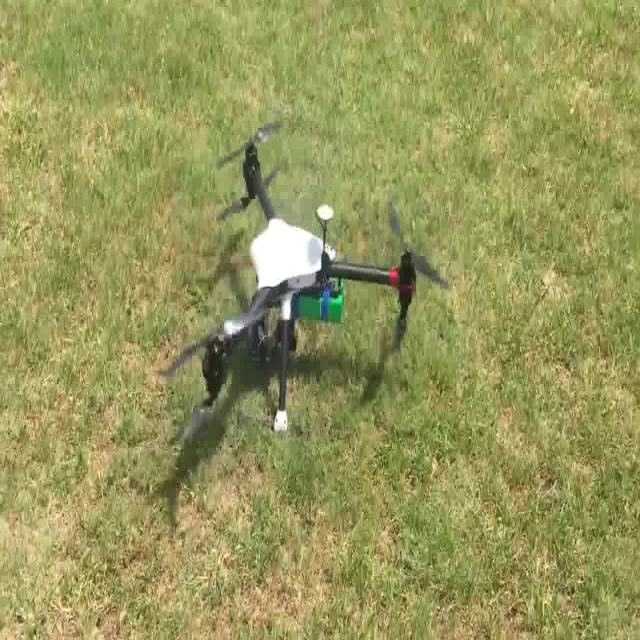drone: (156, 117, 452, 445)
